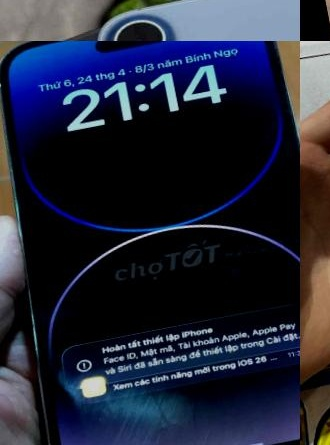scratch: (201, 41, 223, 49)
